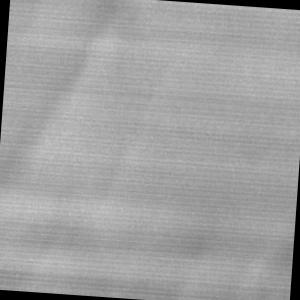Wrinkle: (1, 1, 179, 193), (1, 191, 297, 300)
